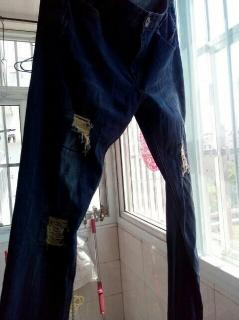trousers: (0, 0, 204, 319)
